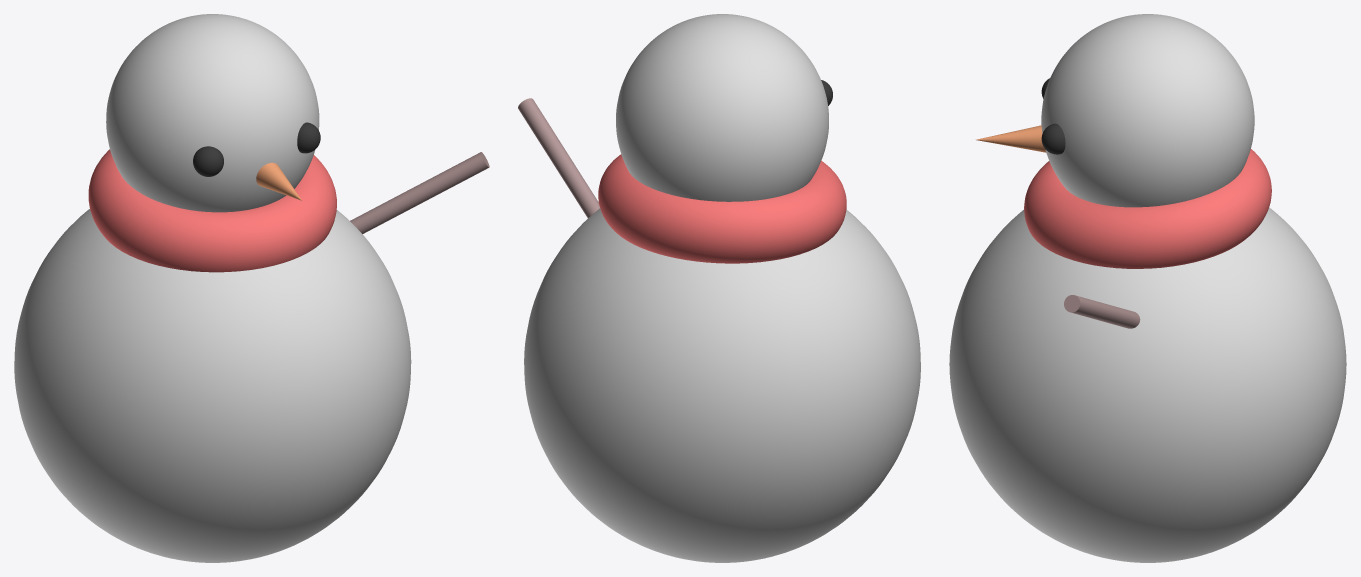
The model's file is 导出的雪人.gltf.
3 renders of one model, left to right at view 1: azimuth 30°, elevation 25°; view 2: azimuth 150°, elevation 25°; view 3: azimuth 270°, elevation 25°, orthographic.
Parts seen in each view (by area): view 1: 合并网格对象, 雪人围脖, 圆柱几何体, 雪人眼睛, 雪人鼻子; view 2: 合并网格对象, 雪人围脖, 圆柱几何体; view 3: 合并网格对象, 雪人围脖, 圆柱几何体, 雪人鼻子, 雪人眼睛.
Part boxes in pixels (left/top/right/bottom): 合并网格对象: left=14, top=14, right=411, bottom=562; 雪人围脖: left=88, top=149, right=336, bottom=272; 圆柱几何体: left=350, top=152, right=489, bottom=234; 雪人眼睛: left=193, top=122, right=320, bottom=176; 雪人鼻子: left=256, top=162, right=301, bottom=200; 合并网格对象: left=524, top=14, right=920, bottom=562; 雪人围脖: left=598, top=154, right=846, bottom=263; 圆柱几何体: left=518, top=98, right=599, bottom=217; 合并网格对象: left=949, top=14, right=1346, bottom=562; 雪人围脖: left=1024, top=149, right=1271, bottom=268; 圆柱几何体: left=1064, top=295, right=1140, bottom=328; 雪人鼻子: left=975, top=125, right=1046, bottom=152; 雪人眼睛: left=1041, top=78, right=1065, bottom=154.
Bounding box in the file's own units: 2.67 × 3.23 × 2.23.
